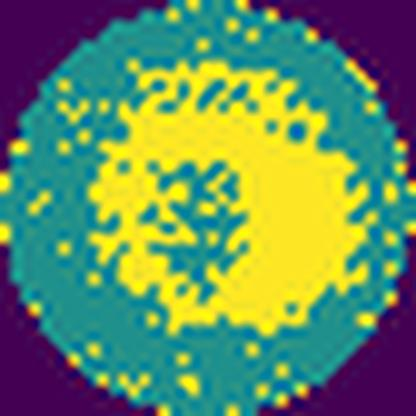Donut: (81, 54, 376, 337)
